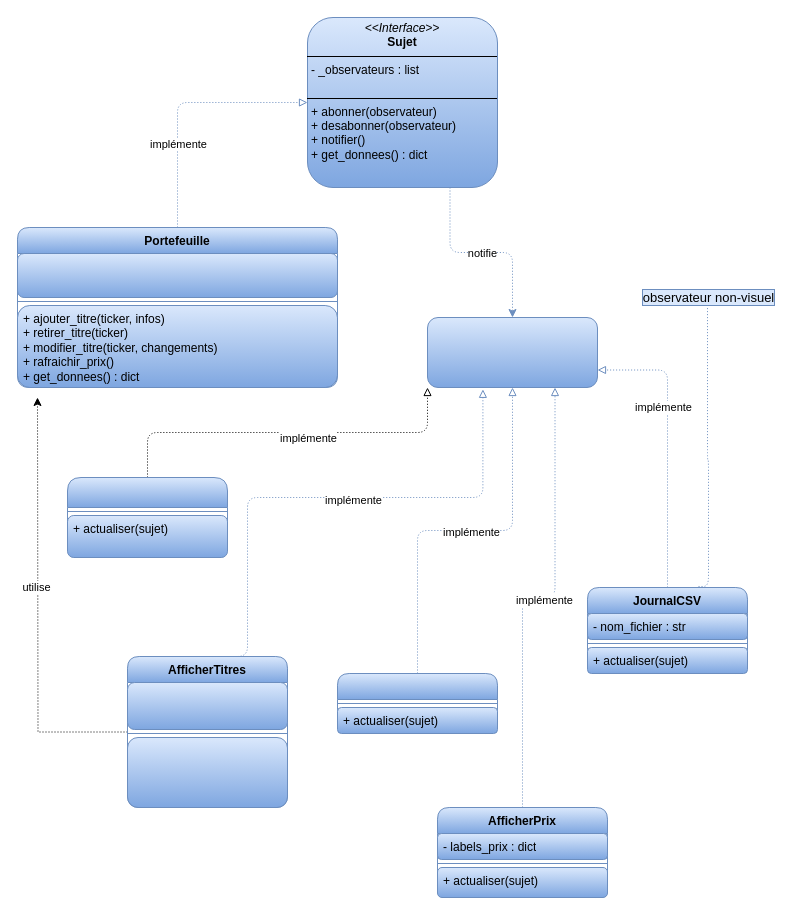
Image size: 792x918. Some labels were removed from this diagram. Each missing label, with the box of its shape:
+ actualiser(sujet) + ajouter_titre() + retirer_titre() + modifier_selection(): (126, 736, 288, 808)
- _titres : dict - prix_actuels : dict: (16, 252, 338, 298)
- portefeuille : Portefeuille - titres : dict: (126, 682, 288, 730)
<<Interface>> Observateur + actualiser(sujet): (426, 316, 598, 388)
AfficherAlertes: (336, 672, 498, 734)
AfficherPortfolio: (66, 476, 228, 558)
